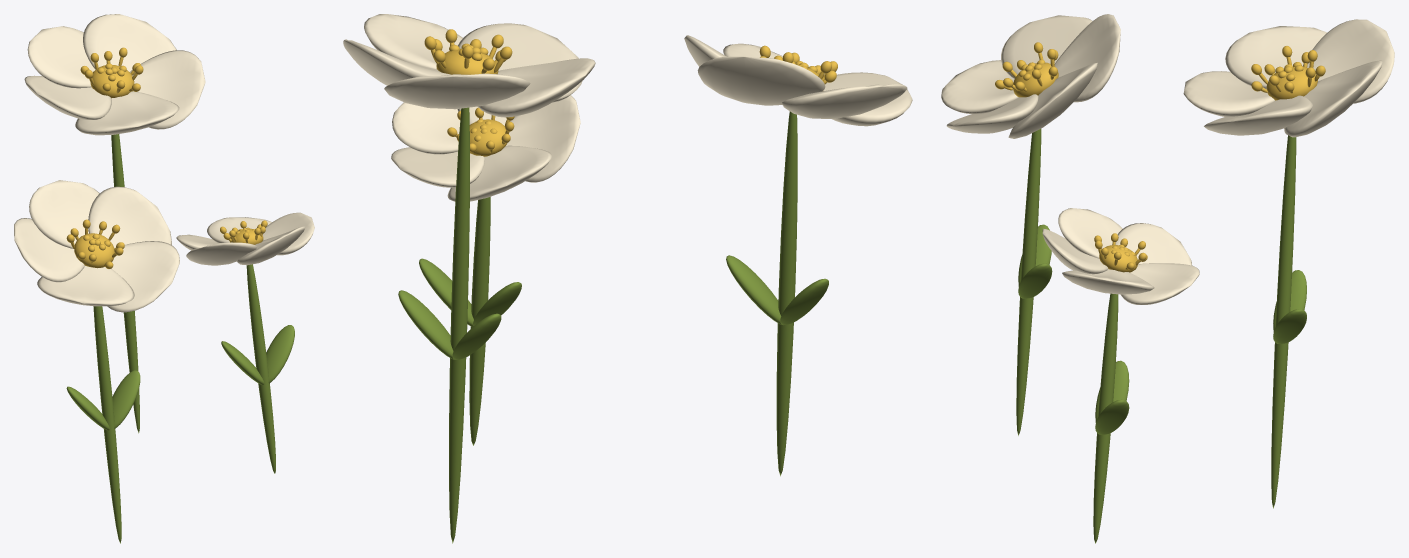
File: crossing_rounded_blossoms.glb
3 renders of one model, left to right at view 1: azimuth 30°, elevation 25°; view 2: azimuth 150°, elevation 25°; view 3: azimuth 270°, elevation 25°, orthographic. The views are drawn at different scales.
Parts seen in each view (by area): view 1: SM_Crossing_RoundedBlossoms; view 2: SM_Crossing_RoundedBlossoms; view 3: SM_Crossing_RoundedBlossoms.
Boxes of the visible parts, left/top/right/bottom form: SM_Crossing_RoundedBlossoms: left=14, top=14, right=314, bottom=543; SM_Crossing_RoundedBlossoms: left=343, top=14, right=912, bottom=543; SM_Crossing_RoundedBlossoms: left=941, top=14, right=1394, bottom=543.
Bounding box in the file's own units: 0.3117 × 0.3561 × 0.324.
